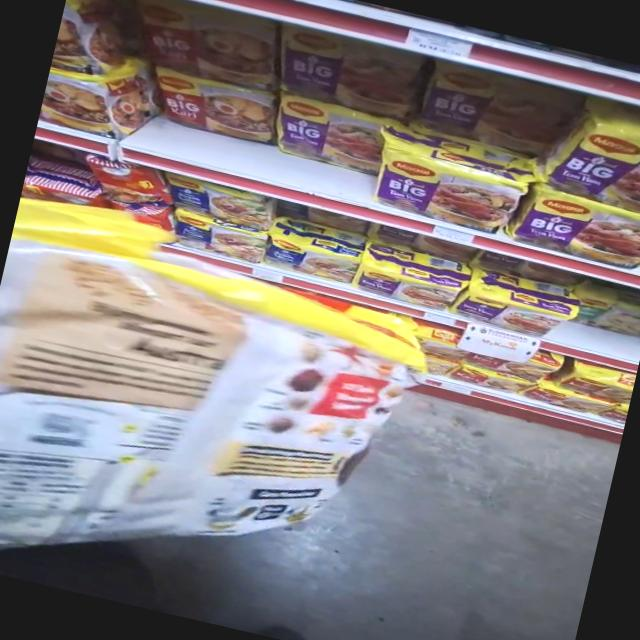Maggi: (0, 199, 427, 584), (370, 130, 536, 245), (142, 68, 288, 156), (544, 110, 640, 222), (520, 192, 640, 281), (37, 59, 157, 147), (461, 263, 582, 349), (261, 212, 372, 294), (276, 98, 388, 178), (358, 238, 468, 313), (160, 176, 284, 234), (162, 212, 275, 270)
